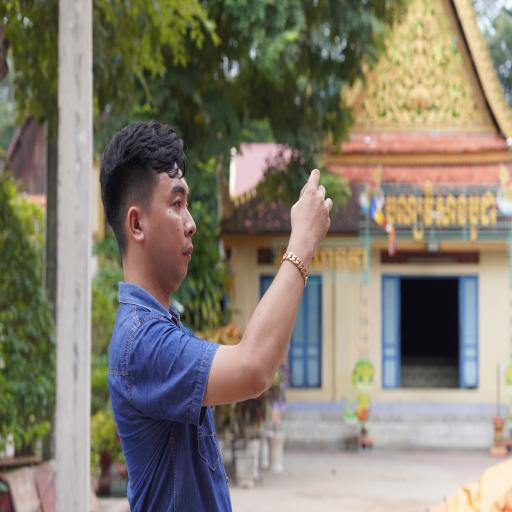than: (401, 19, 437, 110)
